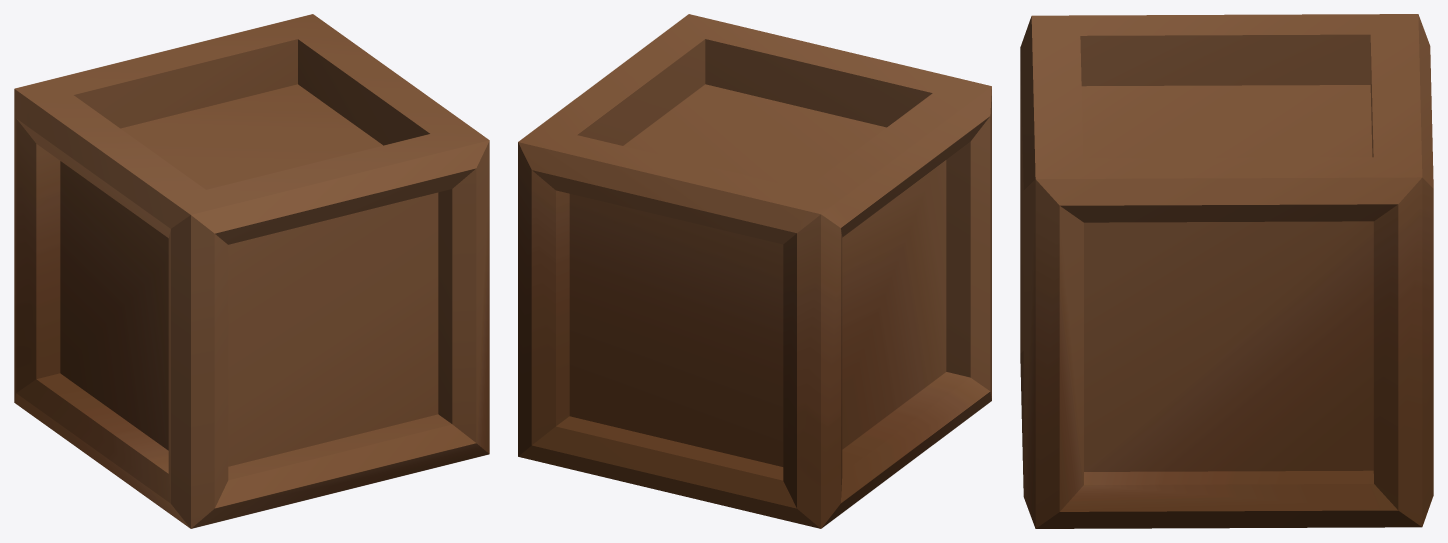
Rendered from wooden_box.glb.
3 views of the same model, side by side, from view 1: azimuth 30°, elevation 25°; view 2: azimuth 150°, elevation 25°; view 3: azimuth 270°, elevation 25° (orthographic). The views are drawn at different scales.
Parts seen in each view (by area): view 1: wooden_box; view 2: wooden_box; view 3: wooden_box.
Part boxes in pixels (x1,y1,x2,y2): wooden_box: (14,14,489,528); wooden_box: (518,14,991,528); wooden_box: (1020,14,1433,528).
Bounding box in the file's own units: 0.9428 × 0.8802 × 0.9428.
1 material, 1 textured.
